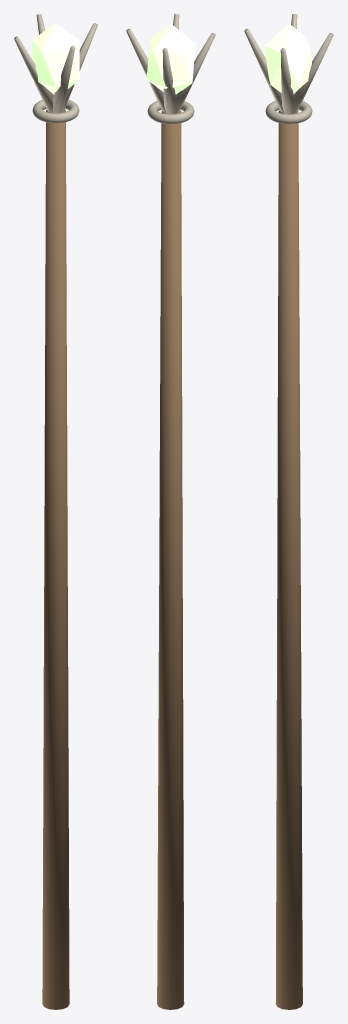
File: staff_warlock.glb
3 renders of one model, left to right at view 1: azimuth 90°, elevation 25°; view 2: azimuth 150°, elevation 25°; view 3: azimuth 330°, elevation 25°, orthographic.
Visible parts, largest first — view 1: Staff; view 2: Staff; view 3: Staff.
Boxes of the visible parts, bbox=[...] form: Staff: bbox=[14, 14, 97, 1009]; Staff: bbox=[126, 14, 215, 1009]; Staff: bbox=[244, 14, 333, 1009].
Bounding box in the file's own units: 0.1345 × 1.76 × 0.1362.
